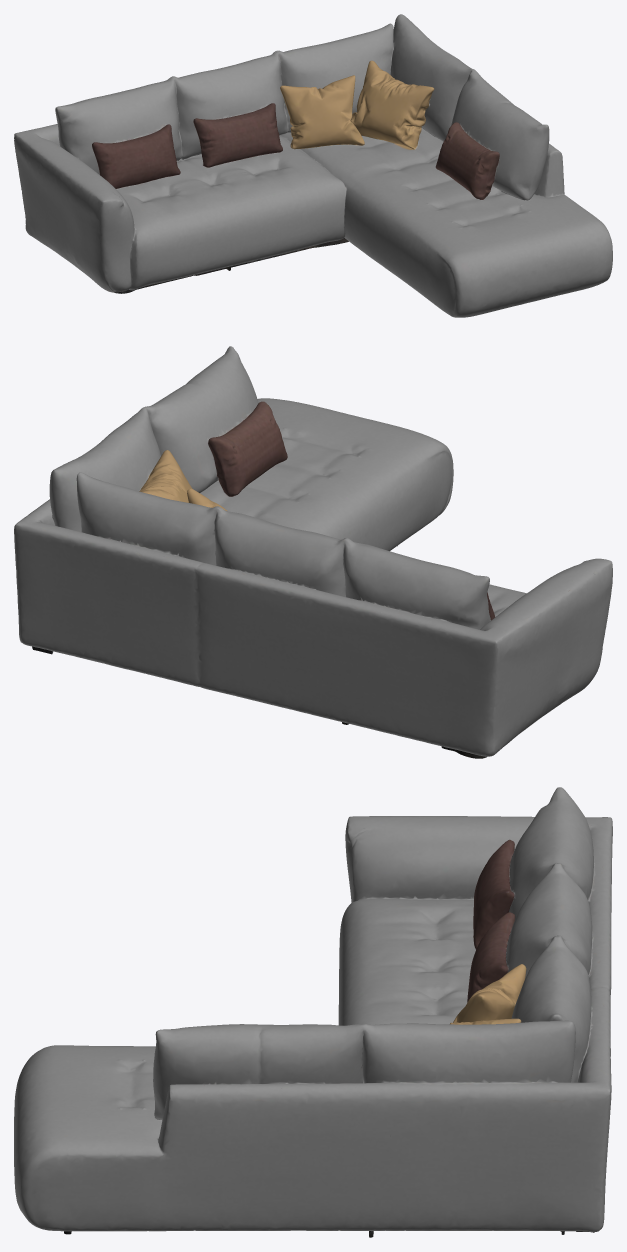
The model's file is contemporary_l_shaped_sectional_sofa_e45mfe.glb.
3 renders of one model, top to bottom at view 1: azimuth 30°, elevation 25°; view 2: azimuth 150°, elevation 25°; view 3: azimuth 270°, elevation 25°, orthographic. The views are drawn at different scales.
Parts seen in each view (by area): view 1: world; view 2: world; view 3: world.
Part boxes in pixels (x1,y1,x2,y2): world: [14, 14, 612, 317]; world: [14, 346, 612, 758]; world: [14, 787, 612, 1237].
Bounding box in the file's own units: 0.9998 × 0.343 × 0.9014.
Materials: 1 (1 with a texture image).
